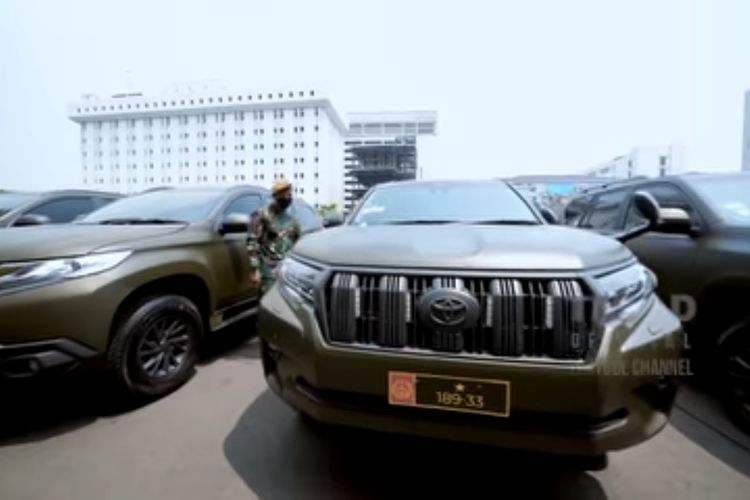plat nomor: (386, 371, 510, 415)
